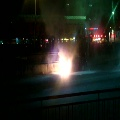fire: (56, 53, 71, 77)
